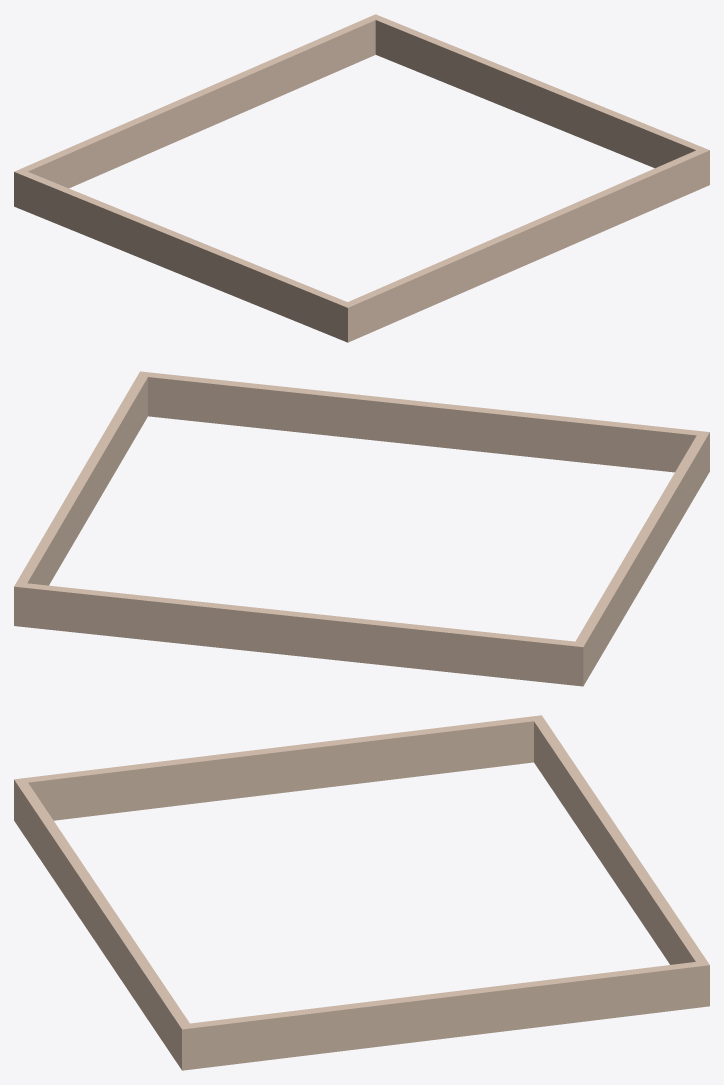
The picture shows the model from 3 angles, top to bottom: view 1: azimuth 30°, elevation 25°; view 2: azimuth 150°, elevation 25°; view 3: azimuth 270°, elevation 25°; orthographic projection. The views are drawn at different scales.
Visible parts, largest first — view 1: SM_5a2ae761d419b6dd177d; view 2: SM_5a2ae761d419b6dd177d; view 3: SM_5a2ae761d419b6dd177d.
Part boxes in pixels (left/top/right/bottom): SM_5a2ae761d419b6dd177d: left=14, top=14, right=709, bottom=342; SM_5a2ae761d419b6dd177d: left=14, top=371, right=709, bottom=686; SM_5a2ae761d419b6dd177d: left=14, top=715, right=709, bottom=1070.
Size of the model in its own units: 11.69 by 10.95 by 0.715.
